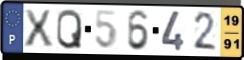2: (192, 10, 219, 54)
4: (160, 10, 188, 53)
5: (94, 9, 119, 51)
6: (126, 9, 150, 53)
Q: (55, 8, 83, 51)
X: (22, 8, 56, 48)
